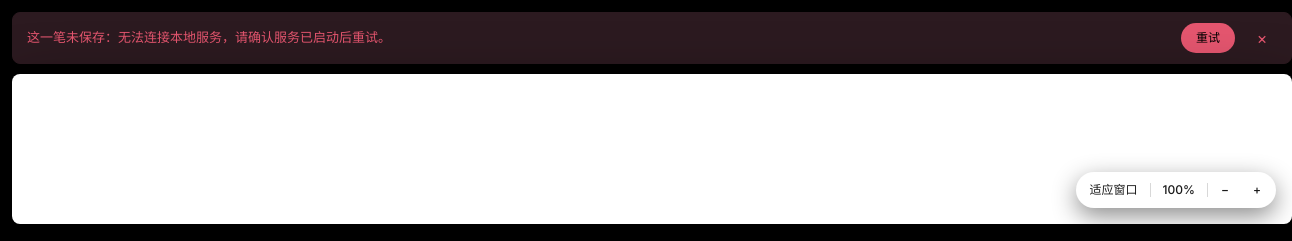
Scenario: 保存失败保留笔画 › 重试成功后横幅消失、笔画进入快照、状态回到已保存
The width and height of the screenshot is (1292, 241).
Check: the message "这一笔未保存：无法连接本地服务，请确认服务已启动后重试。 重试 ×" is shown, box [12, 12, 1291, 64]
Step 1. Click the button "重试" → coordinates (1208, 38), box [1181, 23, 1235, 53]
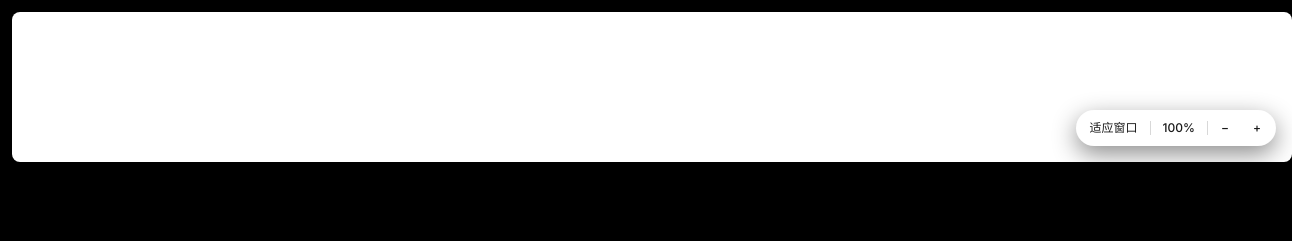
Check: the message "这一笔未保存：无法连接本地服务，请确认服务已启动后重试。 重试 ×" is gone
